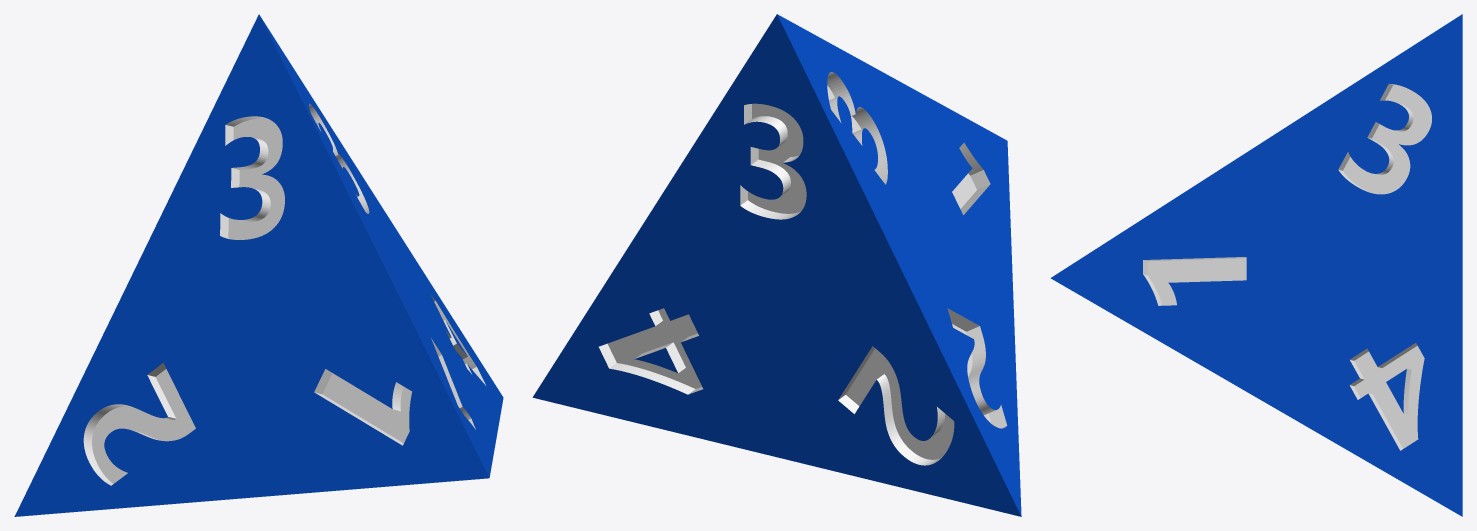
The picture shows the model from 3 angles, left to right: view 1: azimuth 30°, elevation 25°; view 2: azimuth 150°, elevation 25°; view 3: azimuth 270°, elevation 25°; orthographic projection. The views are drawn at different scales.
Parts seen in each view (by area): view 1: d4; view 2: d4; view 3: d4.
Boxes of the visible parts, box(x1,y1,x2,y2) form: d4: box(14, 14, 503, 516); d4: box(532, 14, 1021, 516); d4: box(1050, 14, 1462, 516).
Bounding box in the file's own units: 2.76 × 2.39 × 2.25.
1 material, 1 textured.
